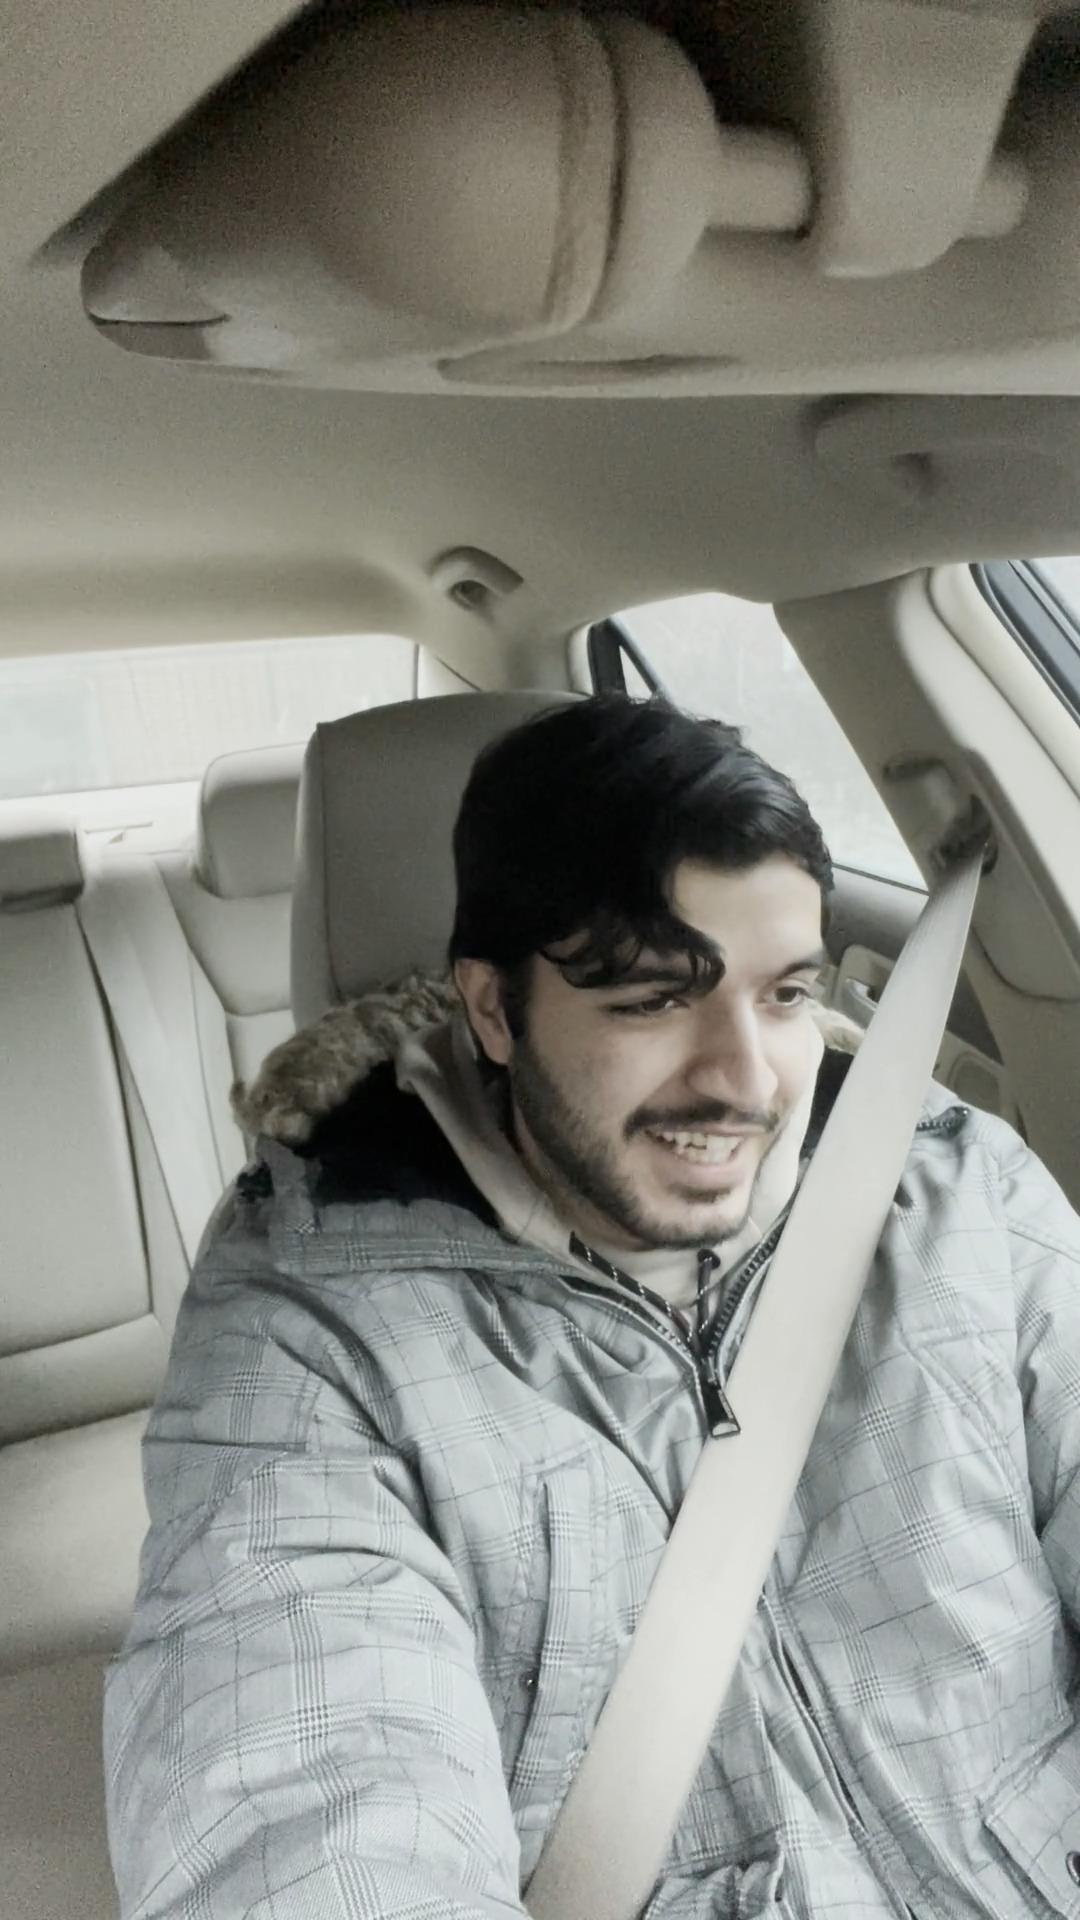seatbelt: (462, 1195, 1076, 1920)
